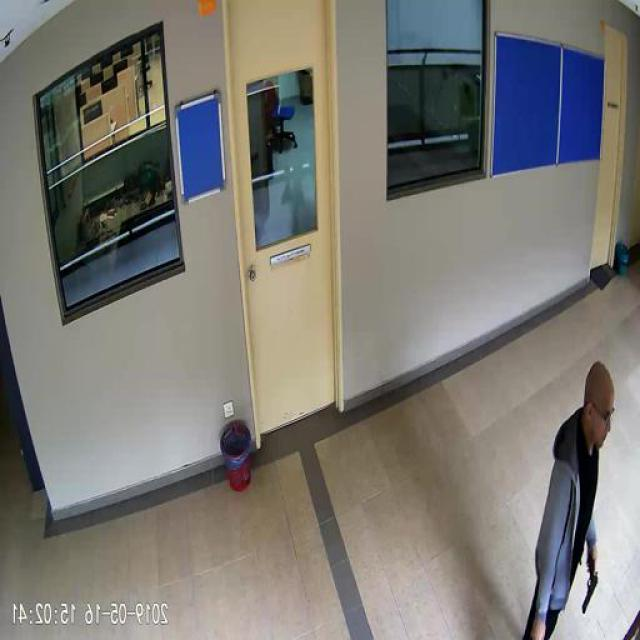Gun: (585, 556, 600, 610)
